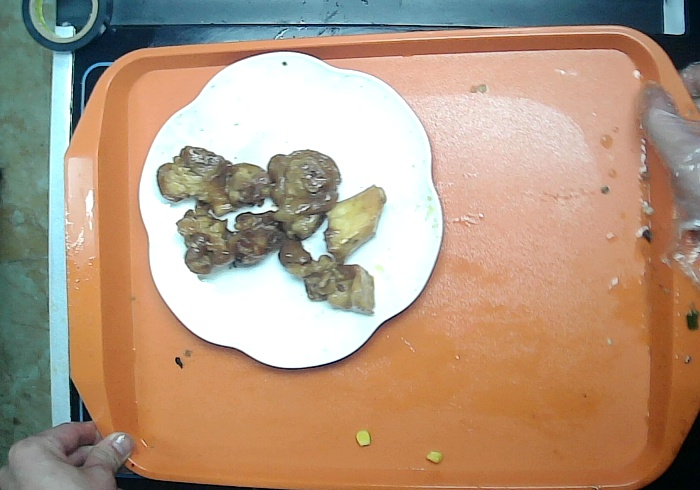HZYJPL-Bai_Se_Hua_Duo_Wan: (126, 41, 467, 385)
